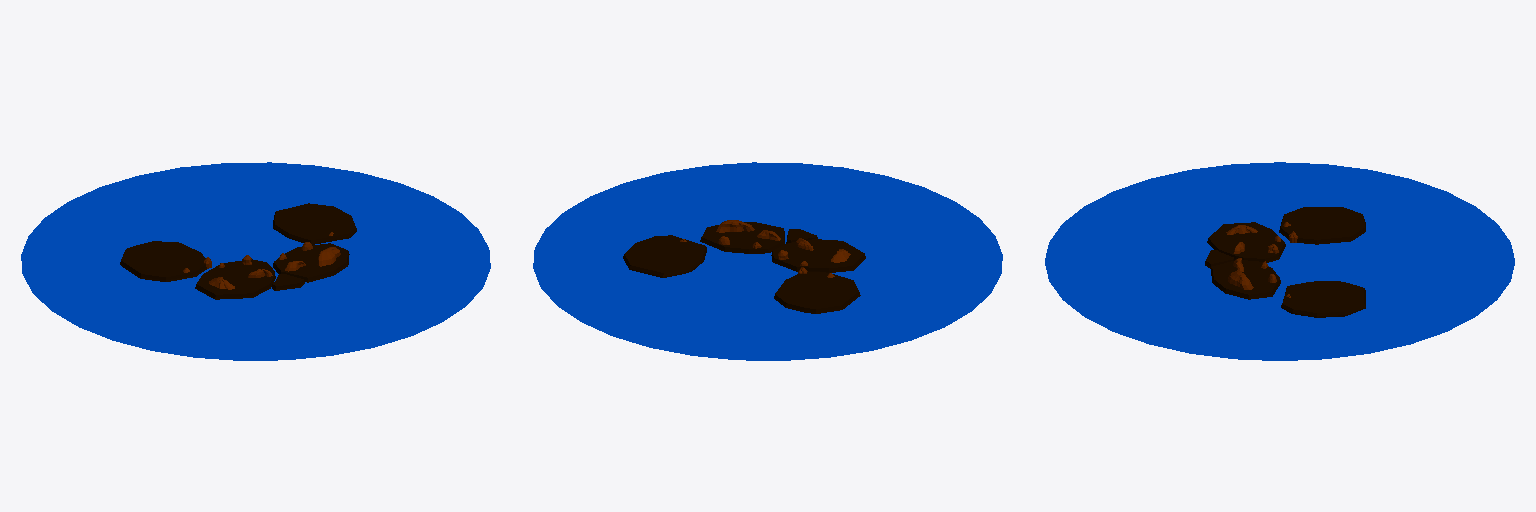
Rendered from islands_terrain.obj.
3 views of the same model, side by side, from view 1: azimuth 30°, elevation 25°; view 2: azimuth 150°, elevation 25°; view 3: azimuth 270°, elevation 25° (orthographic).
Visible parts, largest first — view 1: Circle, Plane; view 2: Circle, Plane; view 3: Circle, Plane.
Part boxes in pixels (bbox=[...]): Circle: bbox=[21, 162, 490, 360]; Plane: bbox=[120, 203, 356, 299]; Circle: bbox=[533, 162, 1002, 360]; Plane: bbox=[623, 222, 865, 313]; Circle: bbox=[1045, 162, 1514, 360]; Plane: bbox=[1205, 207, 1365, 317].
Size of the model in its own units: 740 by 28.49 by 740.